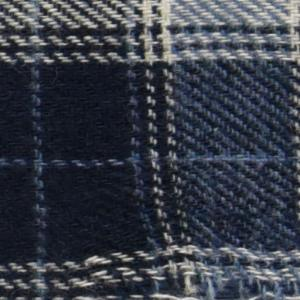Damage: (65, 219, 300, 300)
